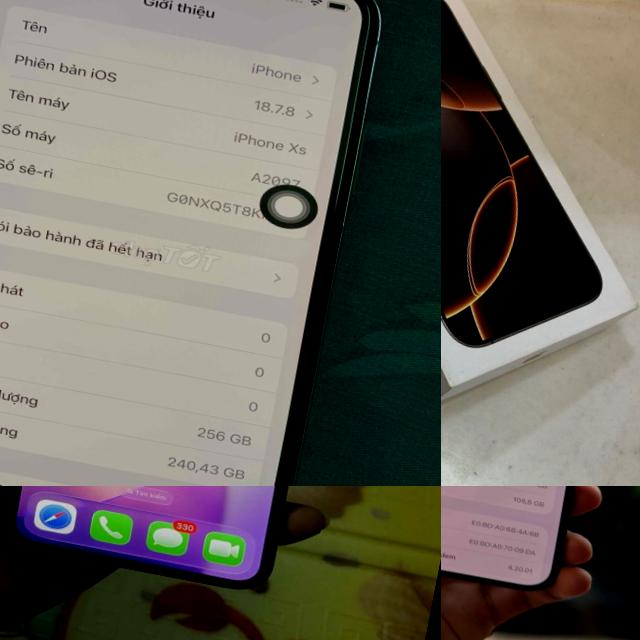gen_11: (5, 486, 287, 588)
gen_14: (441, 486, 629, 604)
gen_x_xs: (0, 0, 402, 486)
